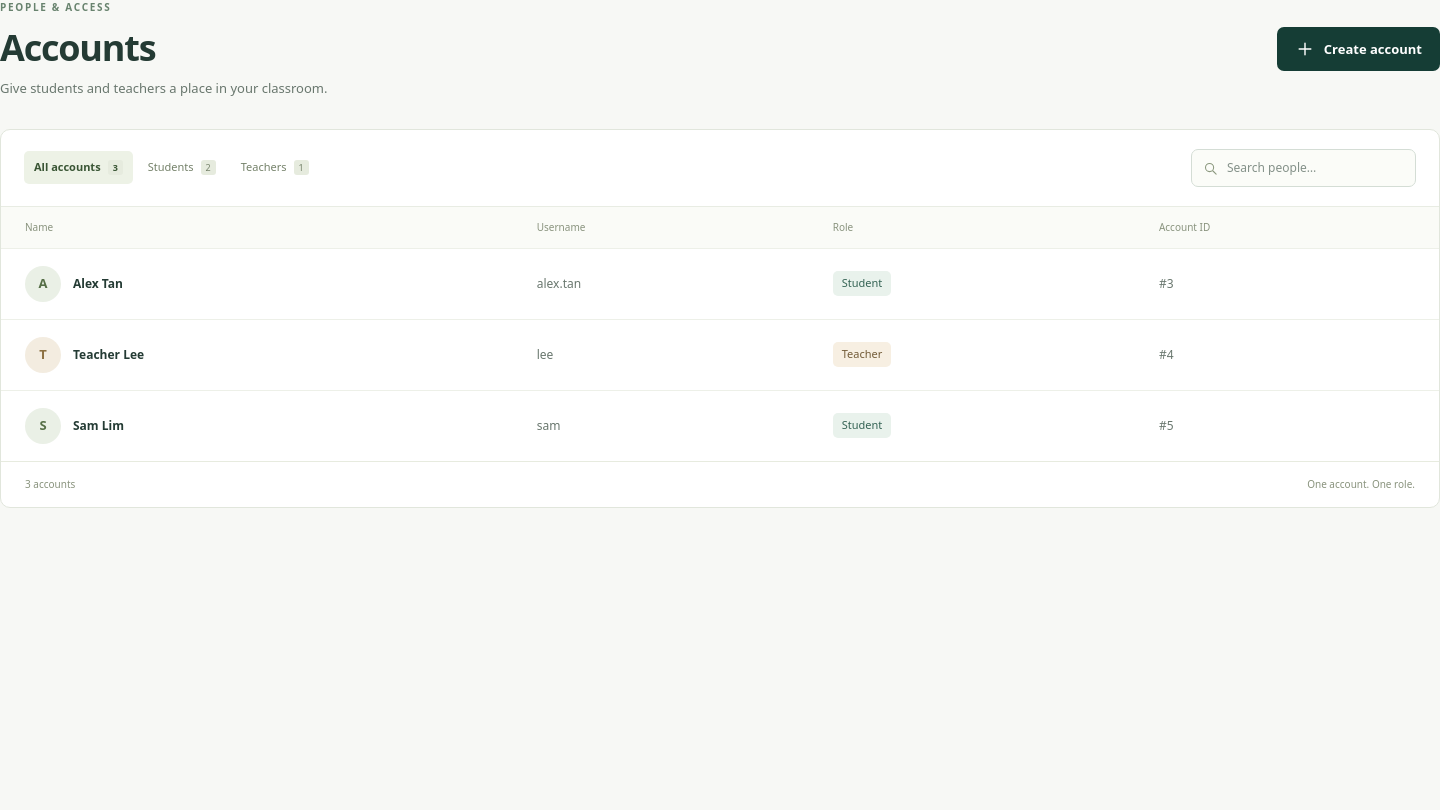
Scenario: admin accounts › creates a student account and refreshes public account data
Click the button "Create account": click(1358, 49) [1277,27,1439,71]
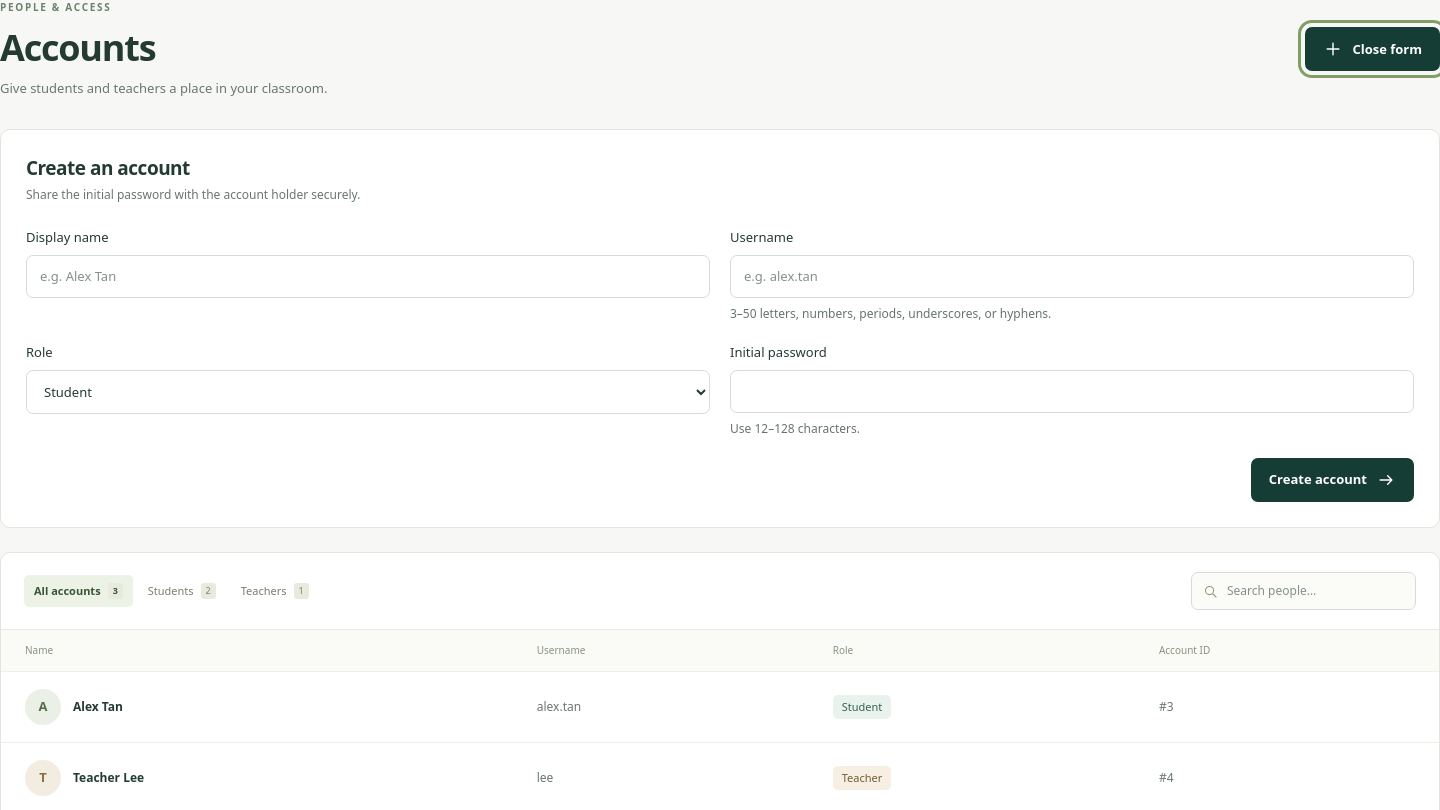
In the field labelled "Display name": (368, 276) [26,255,710,298], type " New Person "
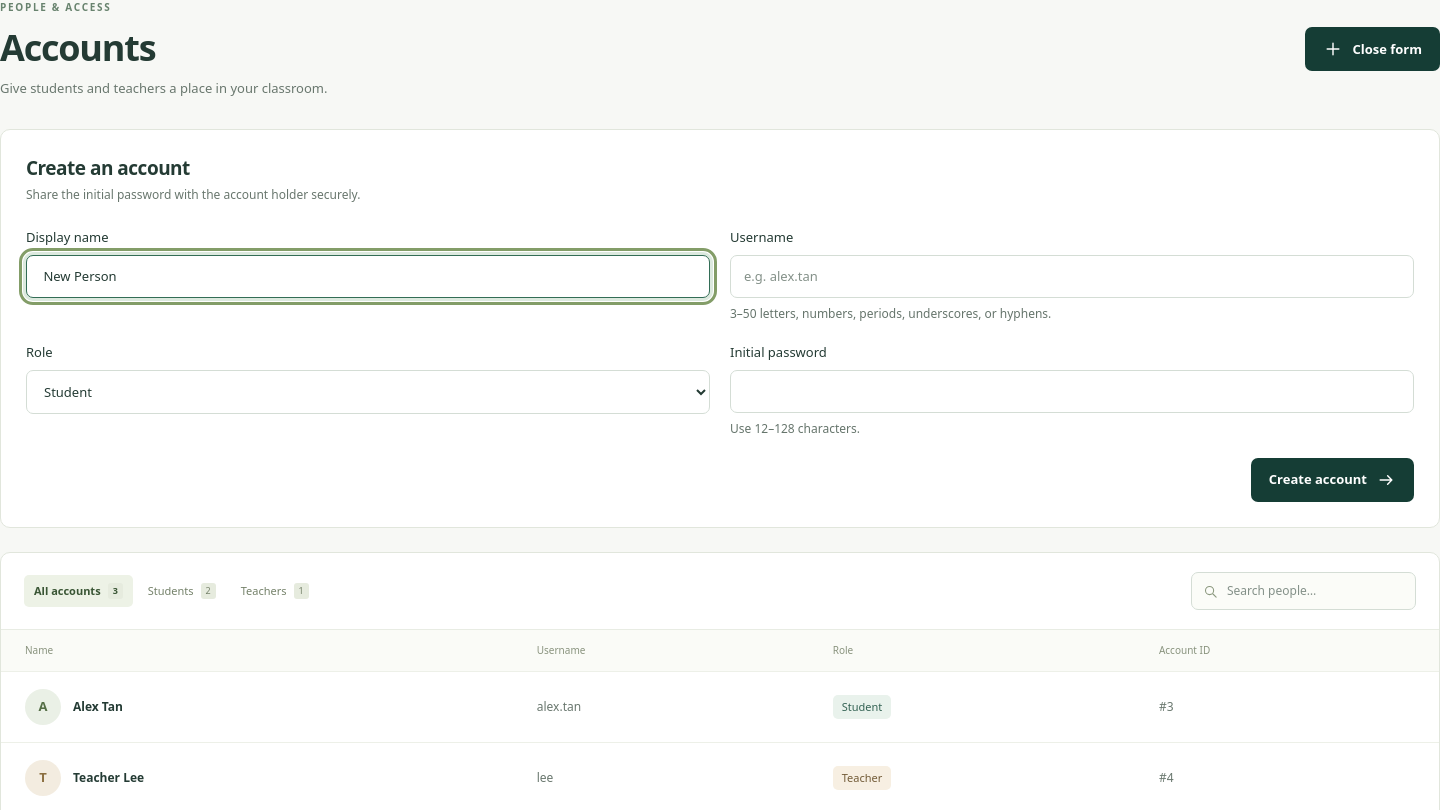
In the field labelled "Username": (1072, 276) [730,255,1414,298], type "new.person"
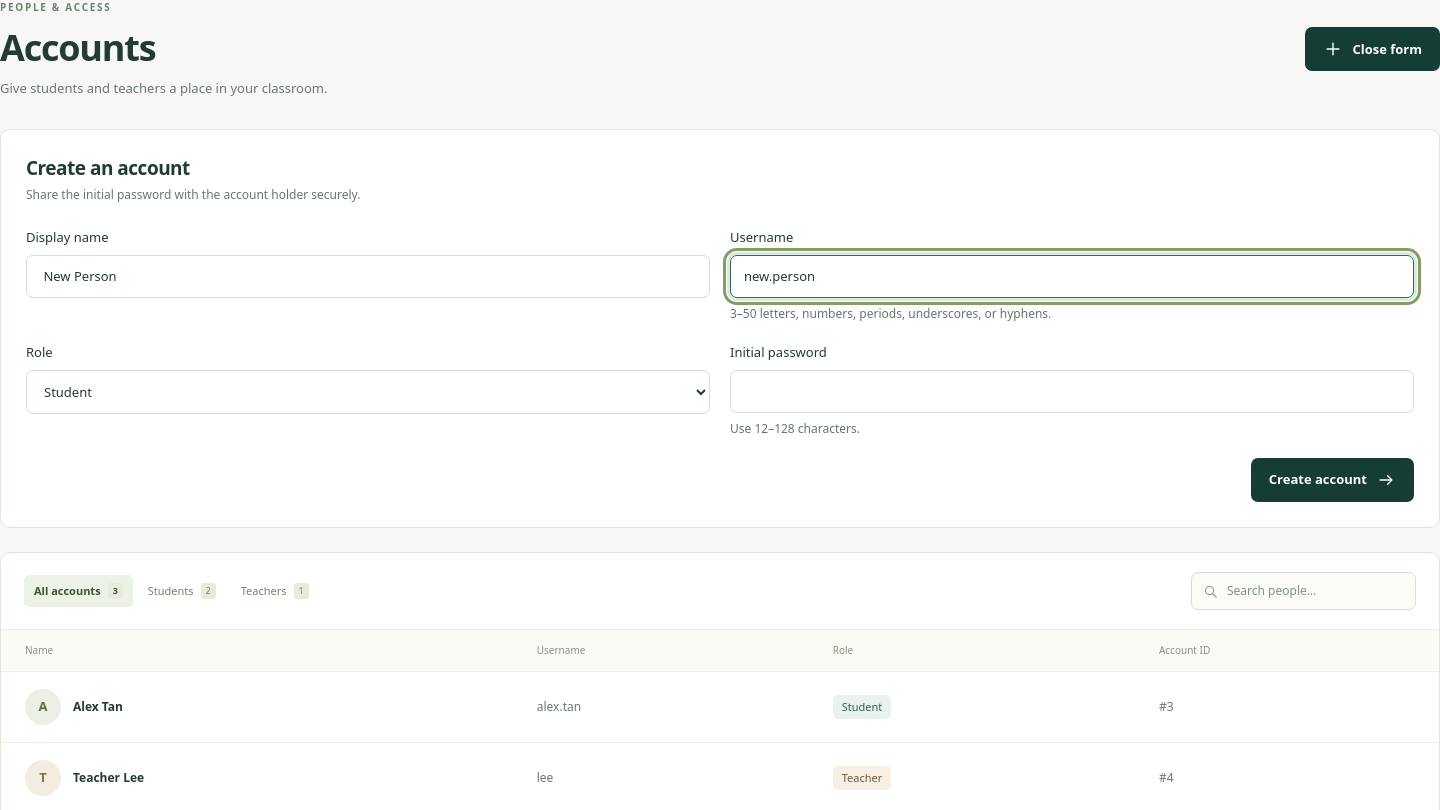
In the password field labelled "Initial password Use 12–128 characters.": (1072, 391) [730,370,1414,413], type " a long password "
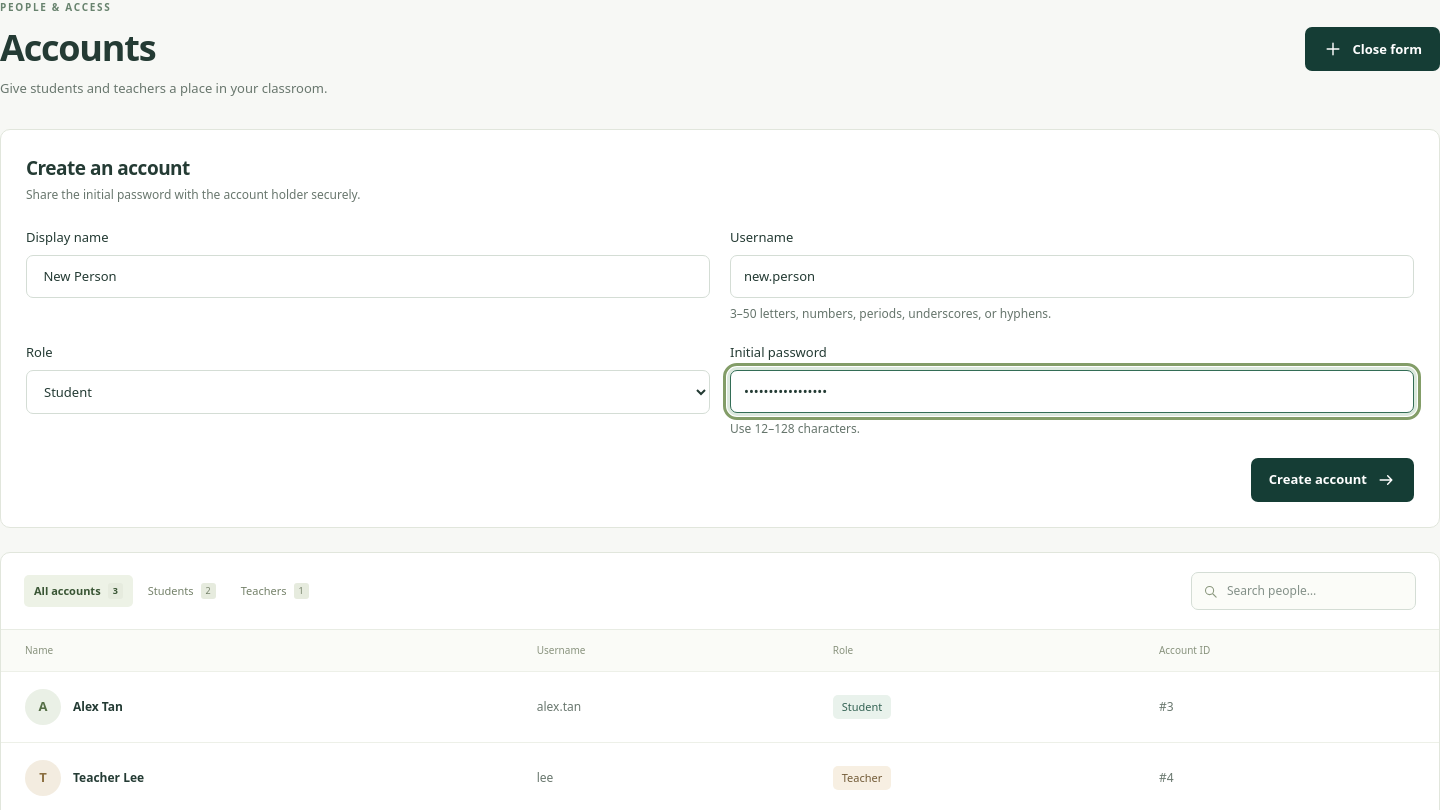
Select "Student" in the dropdown labelled "Role": (368, 392) [26,370,710,414]
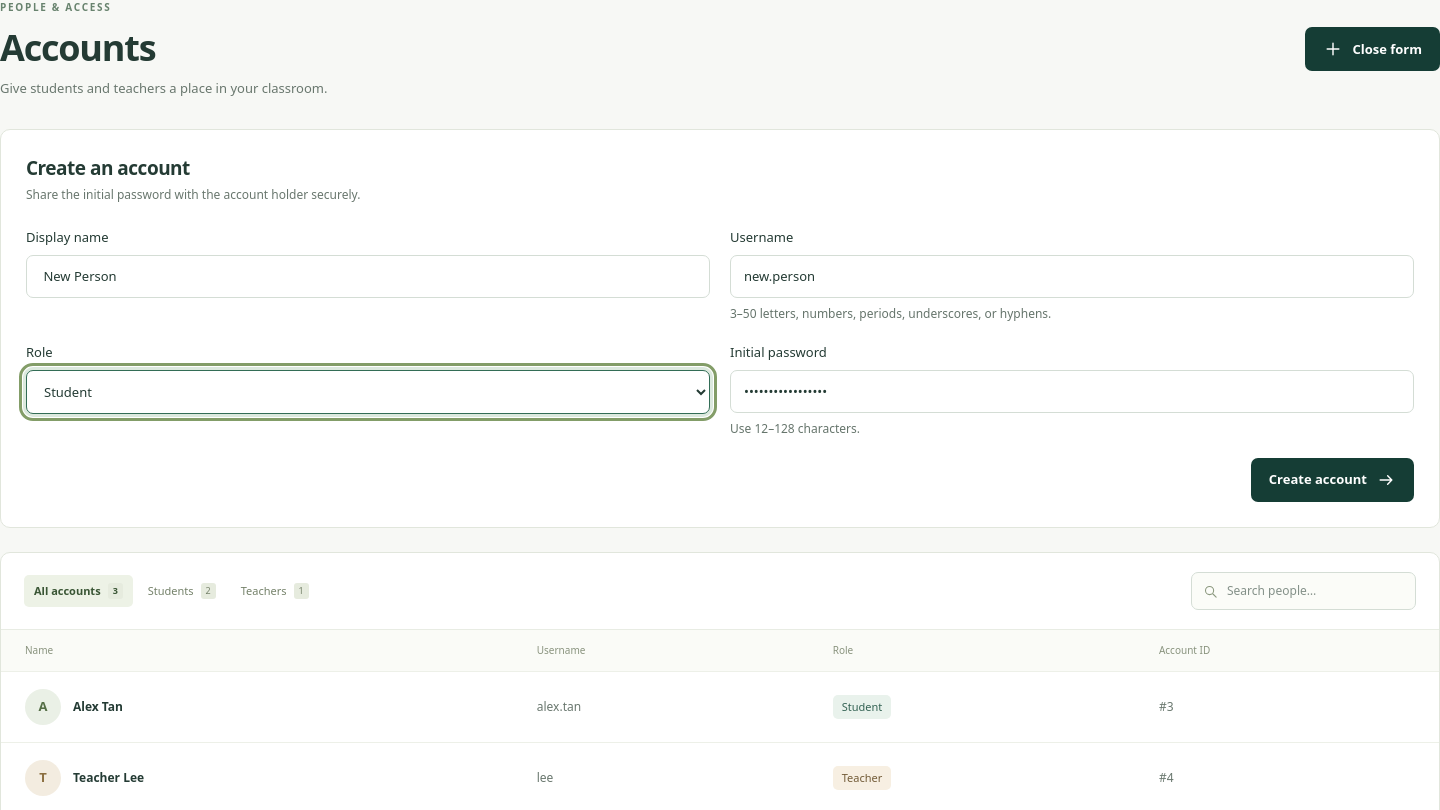
Click the button "Create account": click(1332, 480) [1251,458,1414,502]
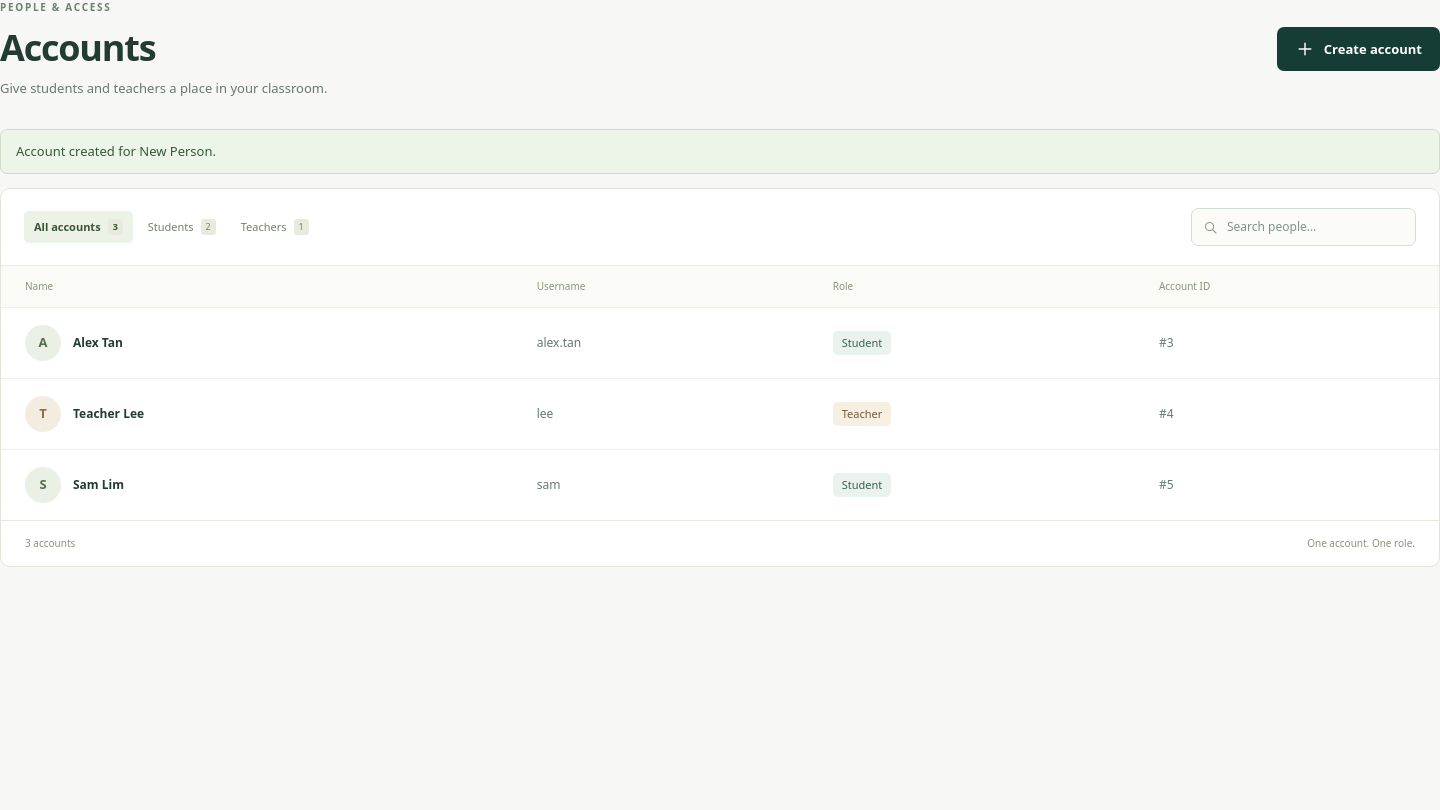
Now the text "Account created for New Person." is shown, box [0,128,1439,174]
Now the label labelled "Initial password" is gone
